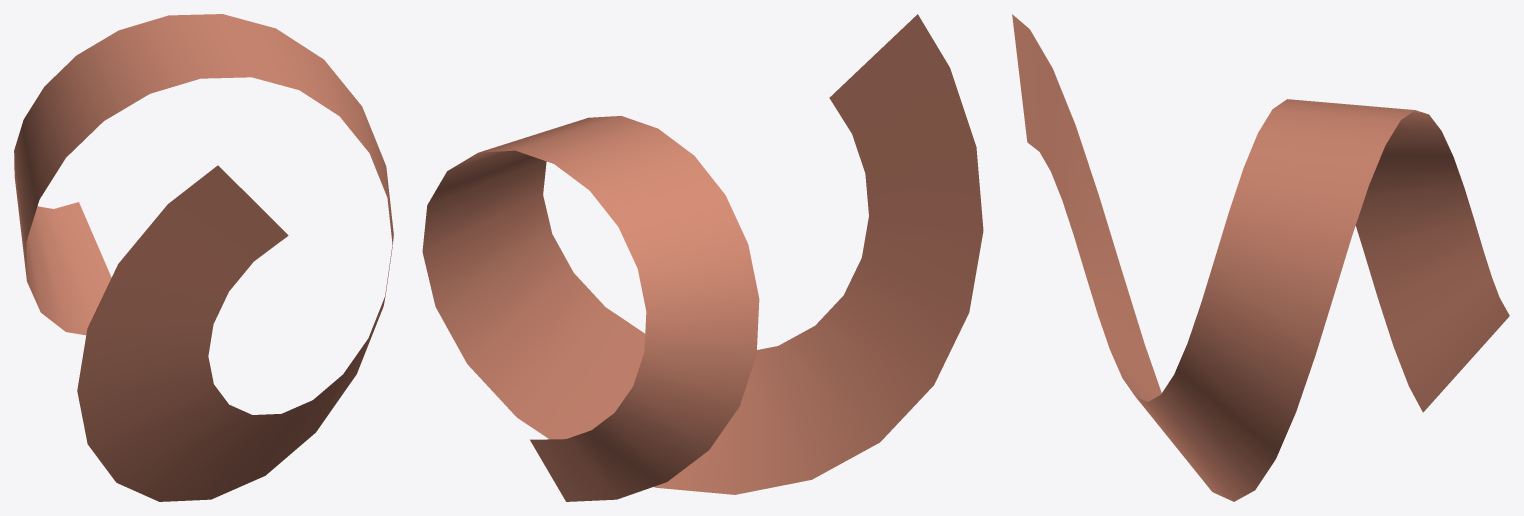
Rendered from spiral01.fbx.
3 views of the same model, side by side, from view 1: azimuth 30°, elevation 25°; view 2: azimuth 150°, elevation 25°; view 3: azimuth 270°, elevation 25° (orthographic). The views are drawn at different scales.
Parts seen in each view (by area): view 1: spiral; view 2: spiral; view 3: spiral.
Boxes of the visible parts, bbox=[...] form: spiral: bbox=[14, 14, 393, 501]; spiral: bbox=[422, 14, 983, 501]; spiral: bbox=[1012, 14, 1509, 501].
Bounding box in the file's own units: 4.97 × 4.75 × 5.26.
